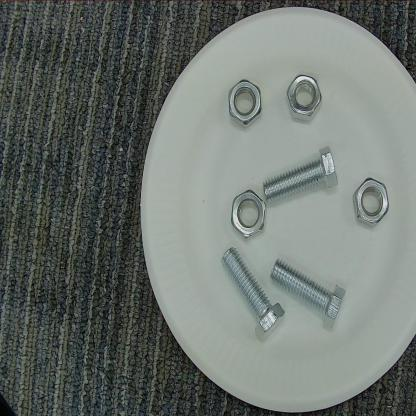FOD: (217, 242, 287, 344), (268, 251, 348, 335), (261, 140, 339, 209), (350, 172, 392, 231), (283, 71, 325, 126), (228, 188, 268, 244), (227, 76, 263, 131)
